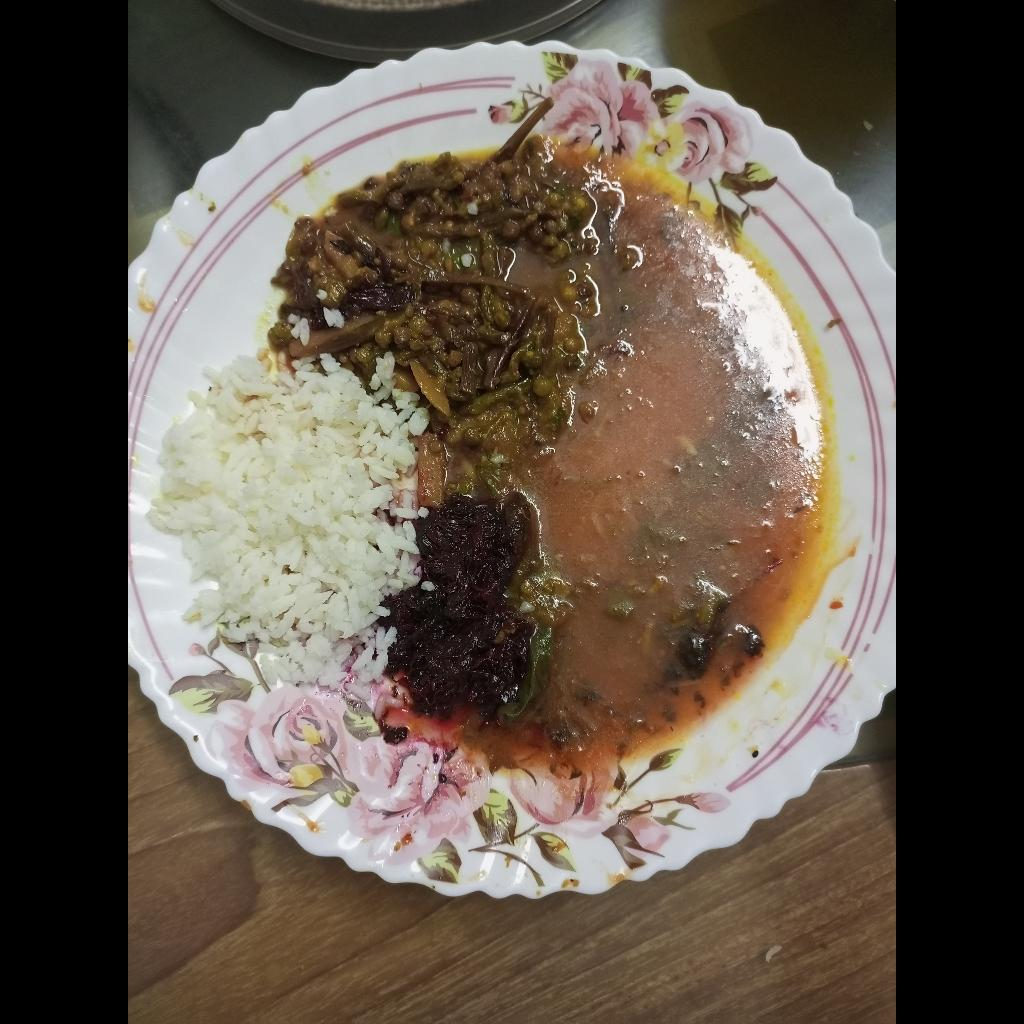daal: (417, 136, 835, 769)
green-pea: (266, 96, 594, 459)
lal-shak: (377, 493, 540, 722)
rice: (143, 343, 431, 694)
